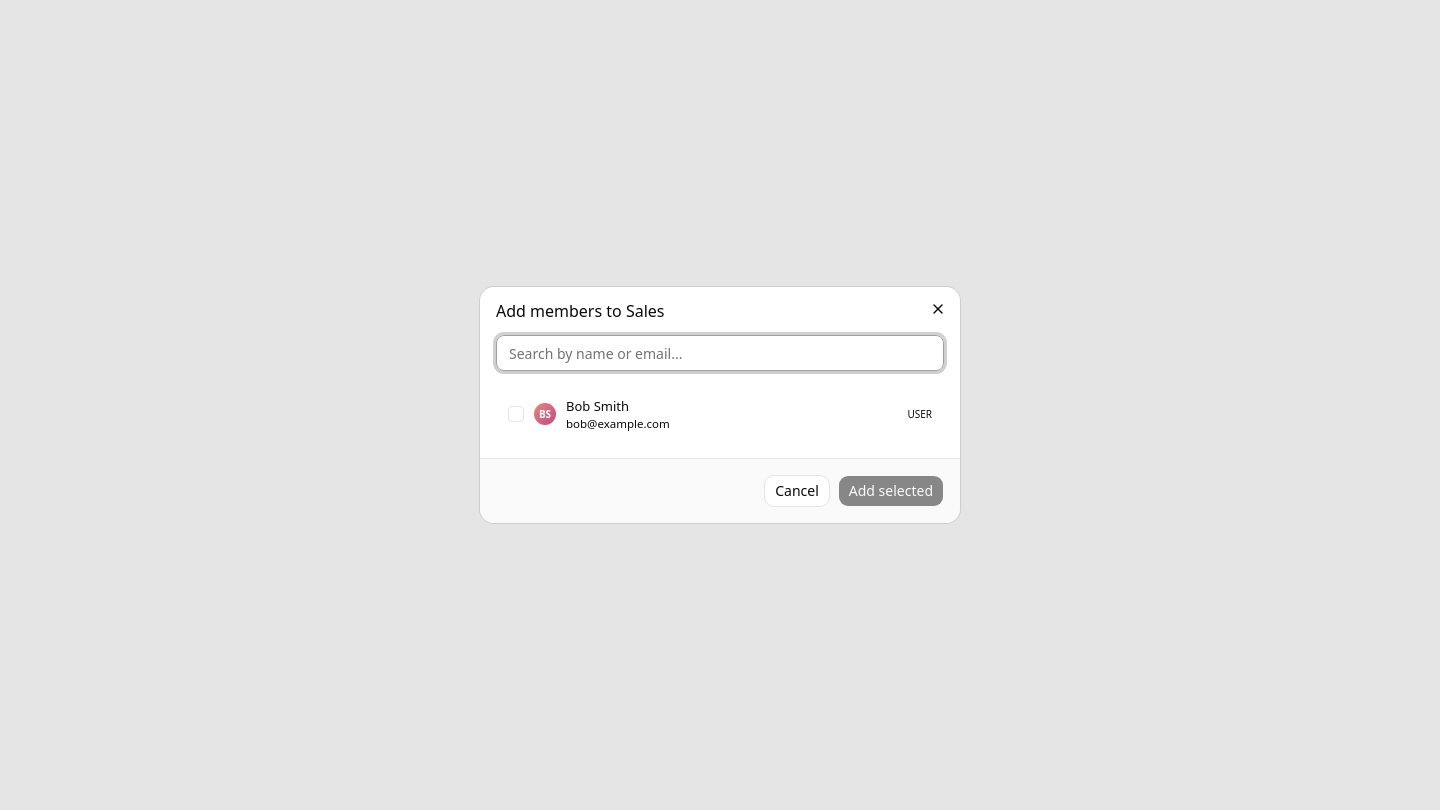
Test: AddMemberModal › shows 'no match' text when search returns no results
Type "zzz" into the field with placeholder "Search by name or email...". click: coordinates (720, 353)
box: left=496, top=335, right=944, bottom=371
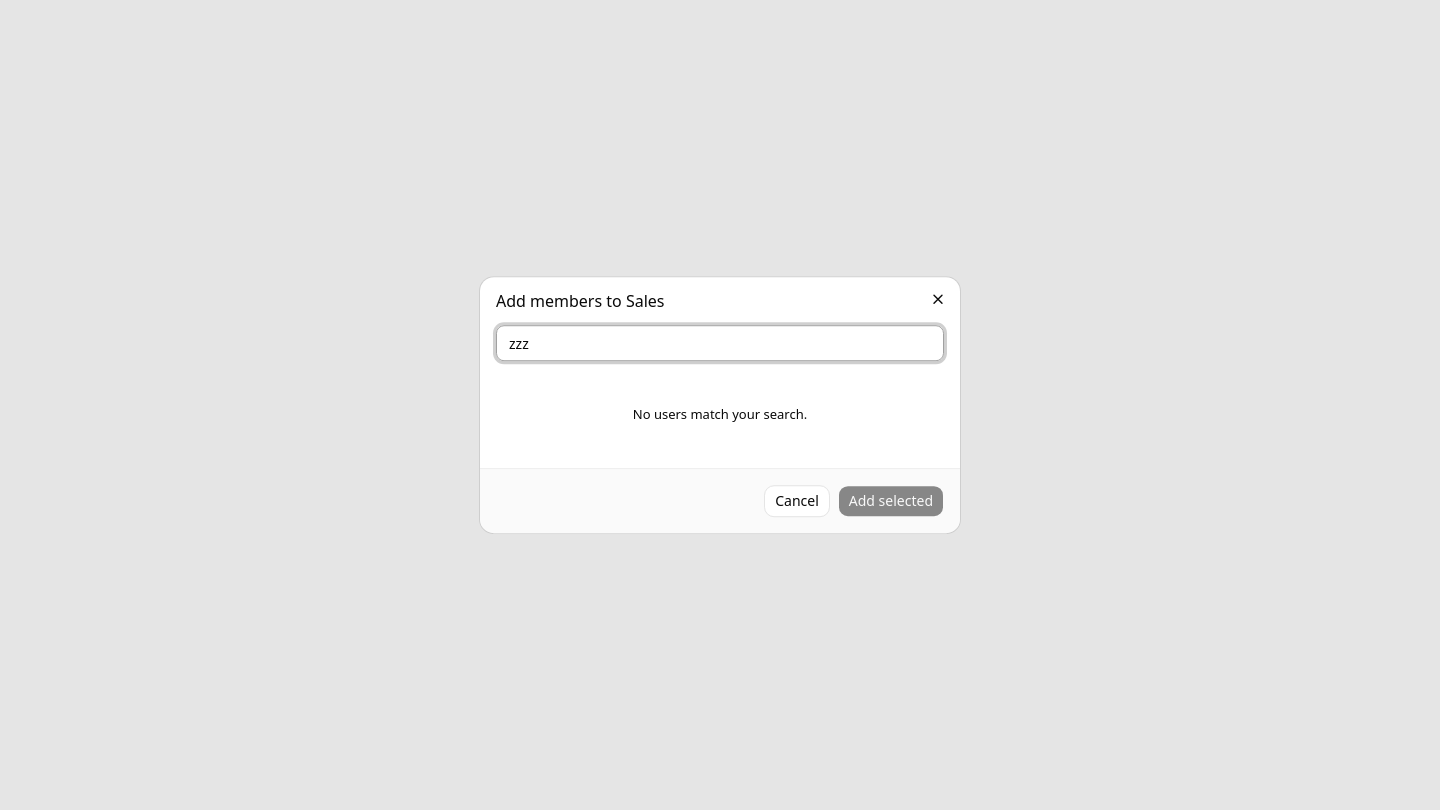
Now the text "No users match your search." is shown, box left=633, top=405, right=807, bottom=423
